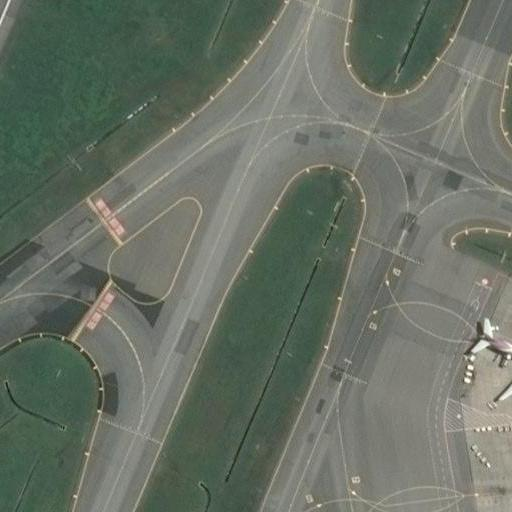Aircraft: (467, 300, 512, 402)
